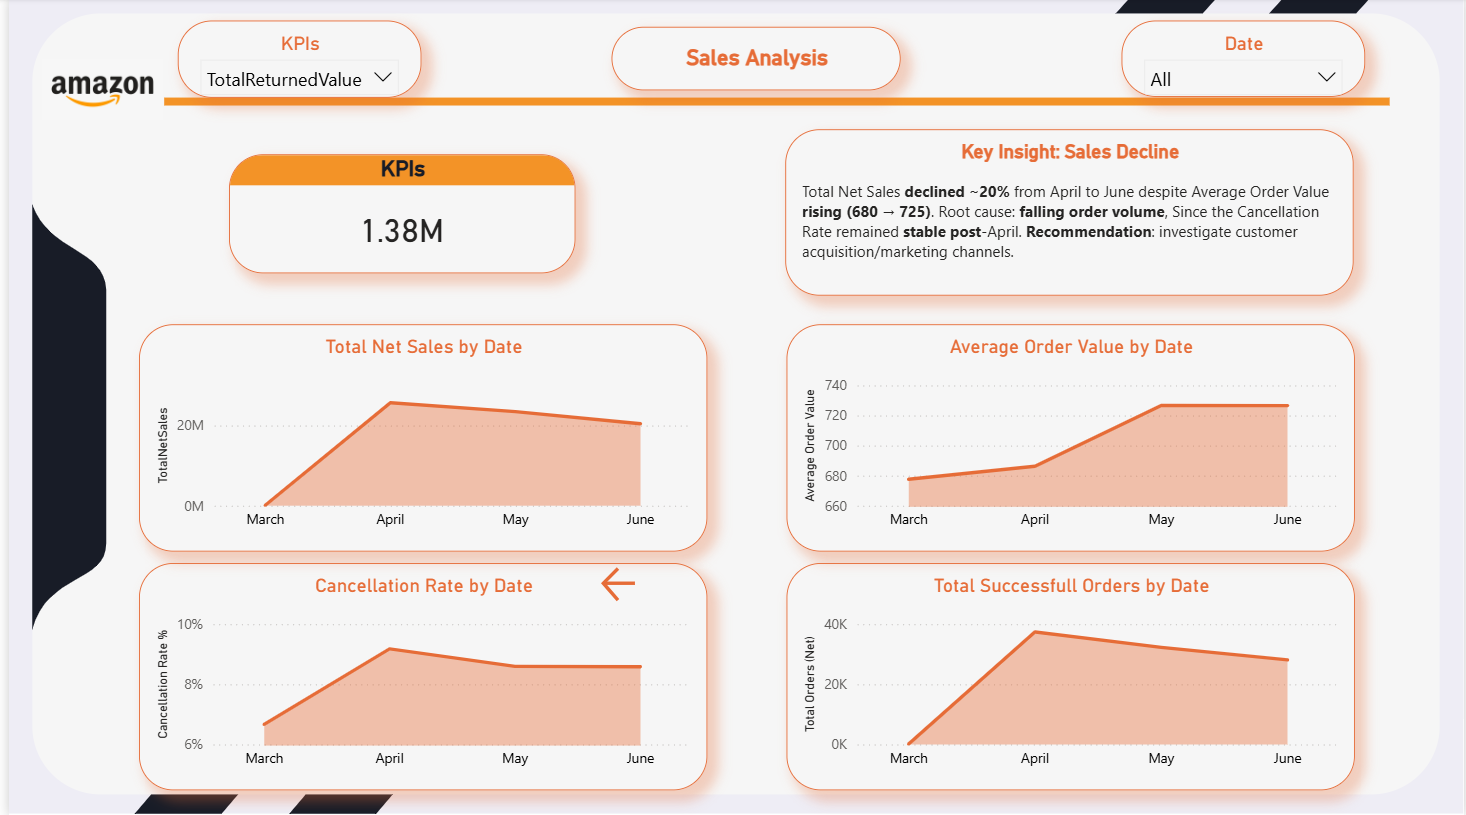

Layout of this report page (visuals, bound fields, positions):
{"tool":"powerbi","page":{"name":"Sales Analysis ","canvas":[1280,720],"ordinal":0},"visuals":[{"type":"lineChart","title":"Average Order Value by Date","fields":{"Category":["Date.Month Name","Date.Date"],"Y":["Sales.Average Order Value"]},"box":[683.3,286.9,500,200],"z":0},{"type":"lineChart","title":"Total Net Sales by Date","fields":{"Category":["Date.Month Name","Date.Date"],"Y":["Sales.TotalNetSales"]},"box":[96.4,286.9,500,200],"z":1000},{"type":"lineChart","title":"Total Successfull Orders by Date","fields":{"Category":["Date.Month Name","Date.Date"],"Y":["Sales.Total Orders (Net)"]},"box":[683.3,496.4,500,200],"z":2000},{"type":"textbox","title":"Key Insight: Sales Decline","box":[683.3,115.5,500,146.4],"z":3000},{"type":"image","box":[28.6,46.4,107.1,67.9],"z":4000},{"type":"card","title":"Sales","fields":{"Values":["Sales.KPI"]},"box":[194,136.9,304.8,104.8],"z":5000},{"type":"slicer","title":"Sales","fields":{"Values":["Sales.Sales"]},"box":[164.3,20.2,214.3,67.9],"z":6000},{"type":"textbox","title":"Sales Analysis ","box":[529.8,25,254.8,56],"z":7000},{"type":"slicer","title":"Date","fields":{"Values":["Date.Month Name"]},"box":[958.3,20.2,214.3,67],"z":8000},{"type":"lineChart","title":"Cancellation Rate by Date","fields":{"Category":["Date.Month Name","Date.Date"],"Y":["Sales.Cancellation Rate %"]},"box":[96.4,496.4,500,200],"z":10000},{"type":"actionButton","title":"Return Button","box":[517.3,495.8,39.8,39.8],"z":11000}]}

Visuals, with their boxes in screenshot pixels (x1, y1, x2, y2), scaled from the page's 1280x720 canvas onto the 1466x815 screenshot:
"Average Order Value by Date" lineChart: [783, 325, 1355, 551]
"Total Net Sales by Date" lineChart: [110, 325, 683, 551]
"Total Successfull Orders by Date" lineChart: [783, 562, 1355, 788]
"Key Insight: Sales Decline" textbox: [783, 131, 1355, 296]
image: [33, 53, 155, 129]
"Sales" card: [222, 155, 571, 274]
"Sales" slicer: [188, 23, 434, 100]
"Sales Analysis " textbox: [607, 28, 899, 92]
"Date" slicer: [1098, 23, 1343, 99]
"Cancellation Rate by Date" lineChart: [110, 562, 683, 788]
"Return Button" actionButton: [592, 561, 638, 606]
